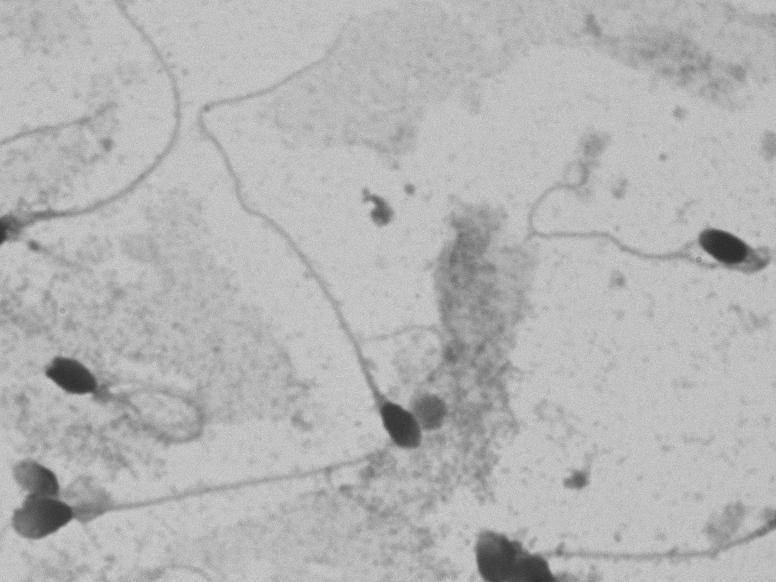Abnormal: (501, 159, 768, 321), (7, 429, 261, 559), (28, 323, 222, 448)
Normal: (181, 7, 438, 466)
